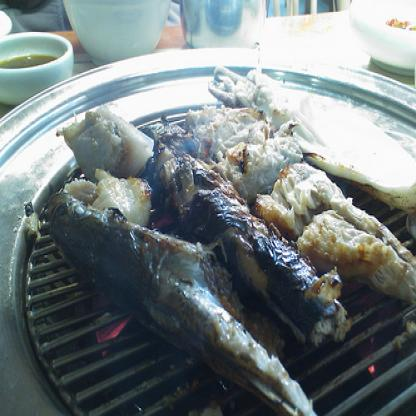Peixe: (53, 87, 415, 397)
